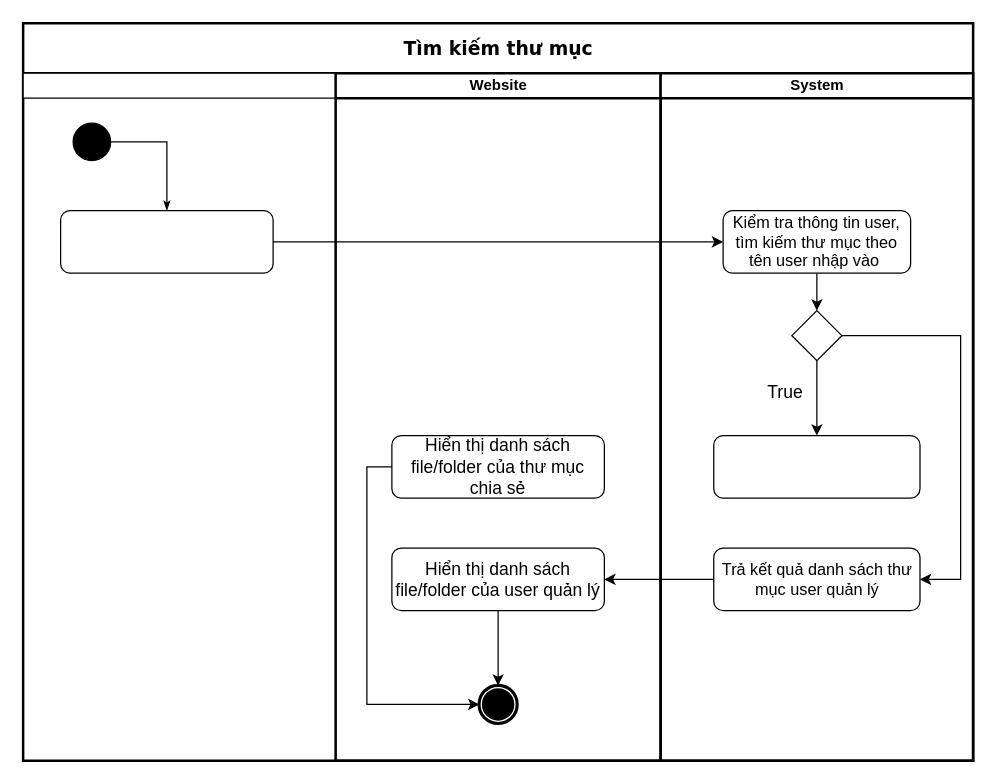
Image size: 995x783. Some labels were removed from this diagram. The box of each missing label's shape, as (x1, y1, x2, y2) in pixels:
Nhập tên thư mục muốn tìm kiếm vào ô tìm kiếm: (59, 209, 273, 273)
Trả kết quả danh sách thư mục tương ứng: (712, 434, 920, 498)
User: (22, 72, 336, 761)
